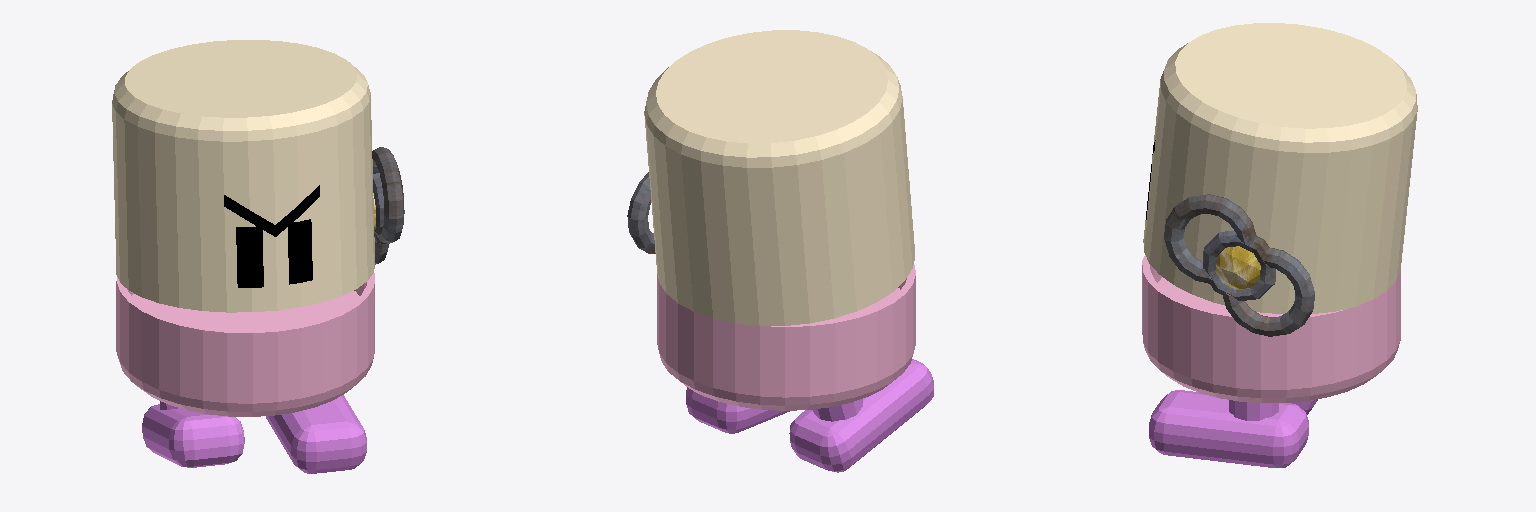
3 renders of one model, left to right at view 1: azimuth 30°, elevation 25°; view 2: azimuth 150°, elevation 25°; view 3: azimuth 270°, elevation 25°, orthographic.
Visible parts, largest first — view 1: Head, Jaw, LeftLeg, RightLeg, WindupKey; view 2: Head, Jaw, RightLeg, LeftLeg, WindupKey; view 3: Head, Jaw, WindupKey, LeftLeg.
Part boxes in pixels (left/top/right/bottom): Head: left=112, top=40, right=374, bottom=312; Jaw: left=116, top=273, right=374, bottom=416; LeftLeg: left=266, top=395, right=366, bottom=473; RightLeg: left=142, top=401, right=244, bottom=467; WindupKey: left=372, top=147, right=404, bottom=264; Head: left=644, top=30, right=914, bottom=325; Jaw: left=657, top=265, right=915, bottom=410; RightLeg: left=789, top=359, right=933, bottom=472; LeftLeg: left=686, top=387, right=789, bottom=433; WindupKey: left=627, top=172, right=655, bottom=253; Head: left=1143, top=23, right=1417, bottom=313; Jaw: left=1142, top=255, right=1400, bottom=402; WindupKey: left=1164, top=194, right=1314, bottom=336; LeftLeg: left=1149, top=390, right=1308, bottom=467.
Size of the model in its own units: 112 by 158 by 106.
6 materials, 2 textured.